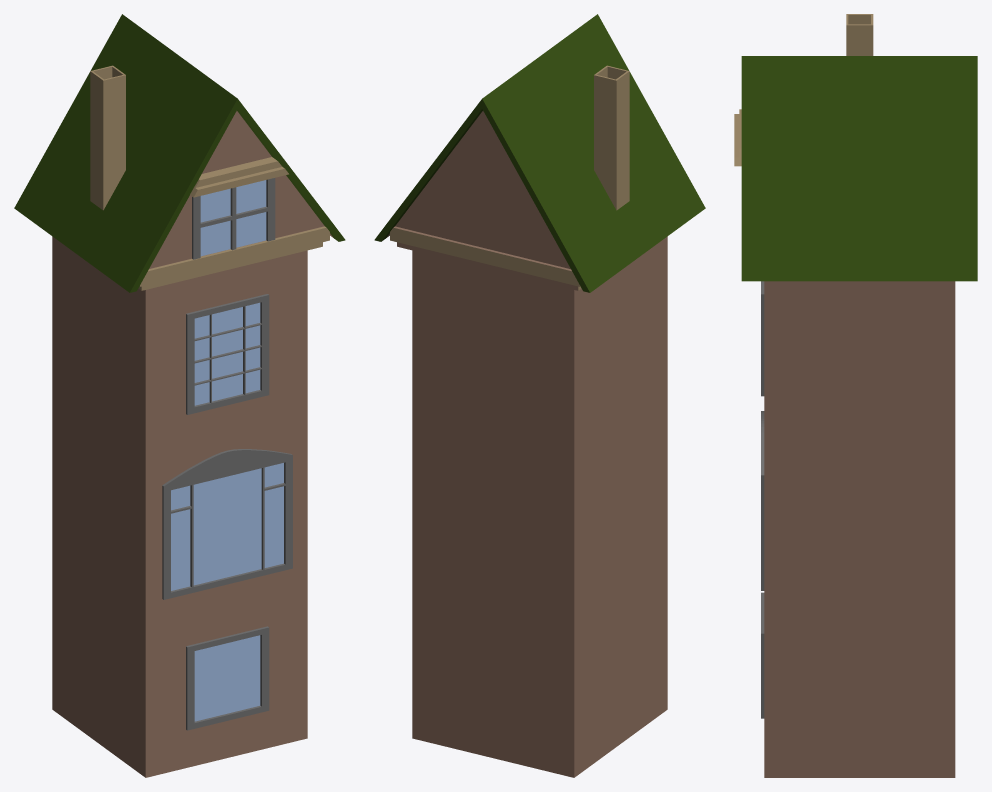
The model's file is House1Fixed.fbx.
3 views of the same model, side by side, from view 1: azimuth 30°, elevation 25°; view 2: azimuth 150°, elevation 25°; view 3: azimuth 270°, elevation 25° (orthographic). The views are drawn at different scales.
Visible parts, largest first — view 1: House1Lvl1; view 2: House1Lvl1; view 3: House1Lvl1.
Boxes of the visible parts, bbox=[...] form: House1Lvl1: bbox=[14, 14, 345, 777]; House1Lvl1: bbox=[374, 14, 705, 777]; House1Lvl1: bbox=[734, 14, 977, 777].
Bounding box in the file's own units: 59.34 × 175 × 56.77.
